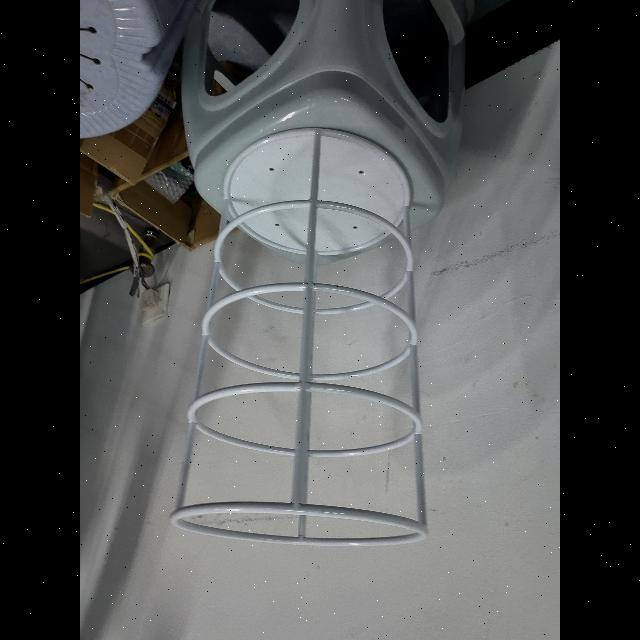S: (169, 123, 433, 549)
